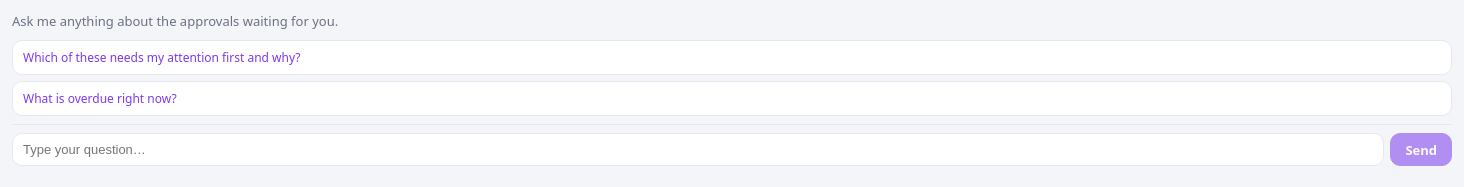
Scenario: ChatPanel: degraded and error states › shows the server's rate-limit message on 429
Type "Which of these needs my attention first?" into the field named "message the assistant" at [698, 150], box top-left (12, 133), bottom-right (1384, 166)
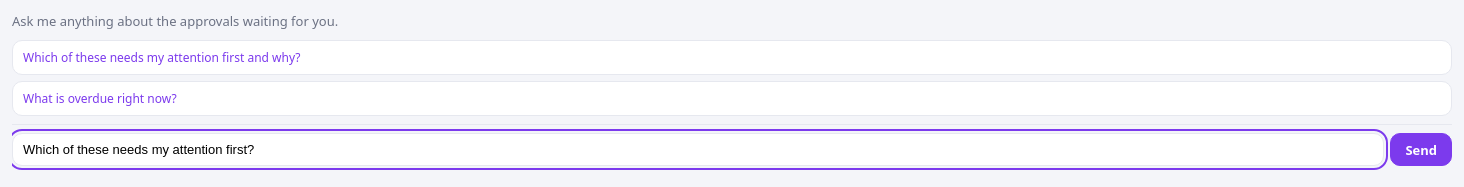
Click the button "Send" at [1421, 150], box top-left (1390, 133), bottom-right (1452, 166)
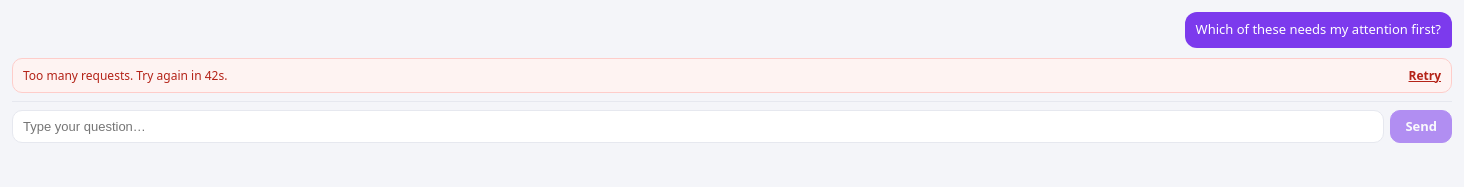
Expected: the message shows "Try again in 42s", top-left (23, 66), bottom-right (227, 84)
